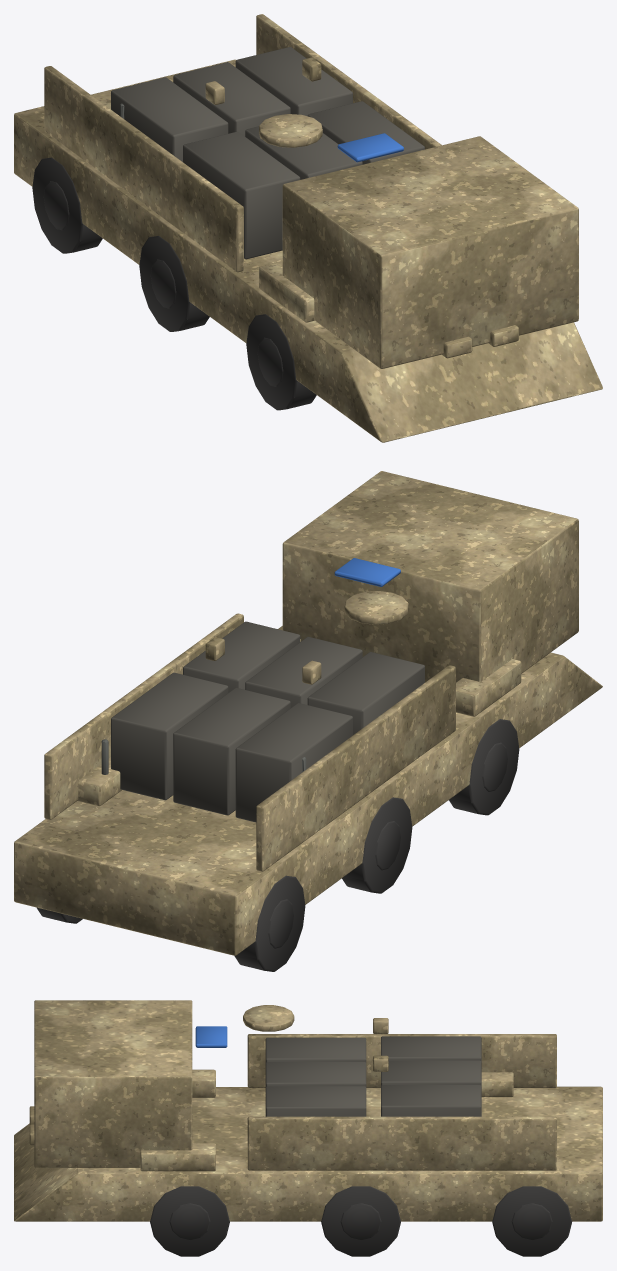
File: log_e4_us_ammotruck_LOD0.glb
3 renders of one model, top to bottom at view 1: azimuth 30°, elevation 25°; view 2: azimuth 150°, elevation 25°; view 3: azimuth 270°, elevation 25°, orthographic. The views are drawn at different scales.
Parts seen in each view (by area): view 1: log_e4_us_ammotruck_LOD0_body, log_e4_us_ammotruck_LOD0_deck, log_e4_us_ammotruck_LOD0_track, log_e4_us_ammotruck_LOD0_team; view 2: log_e4_us_ammotruck_LOD0_body, log_e4_us_ammotruck_LOD0_deck, log_e4_us_ammotruck_LOD0_track, log_e4_us_ammotruck_LOD0_team; view 3: log_e4_us_ammotruck_LOD0_body, log_e4_us_ammotruck_LOD0_deck, log_e4_us_ammotruck_LOD0_track, log_e4_us_ammotruck_LOD0_team.
Part boxes in pixels (bbox=[...]): log_e4_us_ammotruck_LOD0_body: bbox=[14, 14, 602, 442]; log_e4_us_ammotruck_LOD0_deck: bbox=[111, 47, 424, 259]; log_e4_us_ammotruck_LOD0_track: bbox=[32, 157, 316, 410]; log_e4_us_ammotruck_LOD0_team: bbox=[337, 133, 403, 162]; log_e4_us_ammotruck_LOD0_body: bbox=[14, 471, 602, 955]; log_e4_us_ammotruck_LOD0_deck: bbox=[111, 621, 424, 822]; log_e4_us_ammotruck_LOD0_track: bbox=[37, 719, 519, 971]; log_e4_us_ammotruck_LOD0_team: bbox=[334, 558, 400, 586]; log_e4_us_ammotruck_LOD0_body: bbox=[14, 1000, 602, 1221]; log_e4_us_ammotruck_LOD0_deck: bbox=[265, 1036, 481, 1116]; log_e4_us_ammotruck_LOD0_track: bbox=[150, 1186, 572, 1256]; log_e4_us_ammotruck_LOD0_team: bbox=[195, 1026, 227, 1047].
Size of the model in its own units: 2.9 by 2.79 by 8.19.
5 materials, 1 textured.
